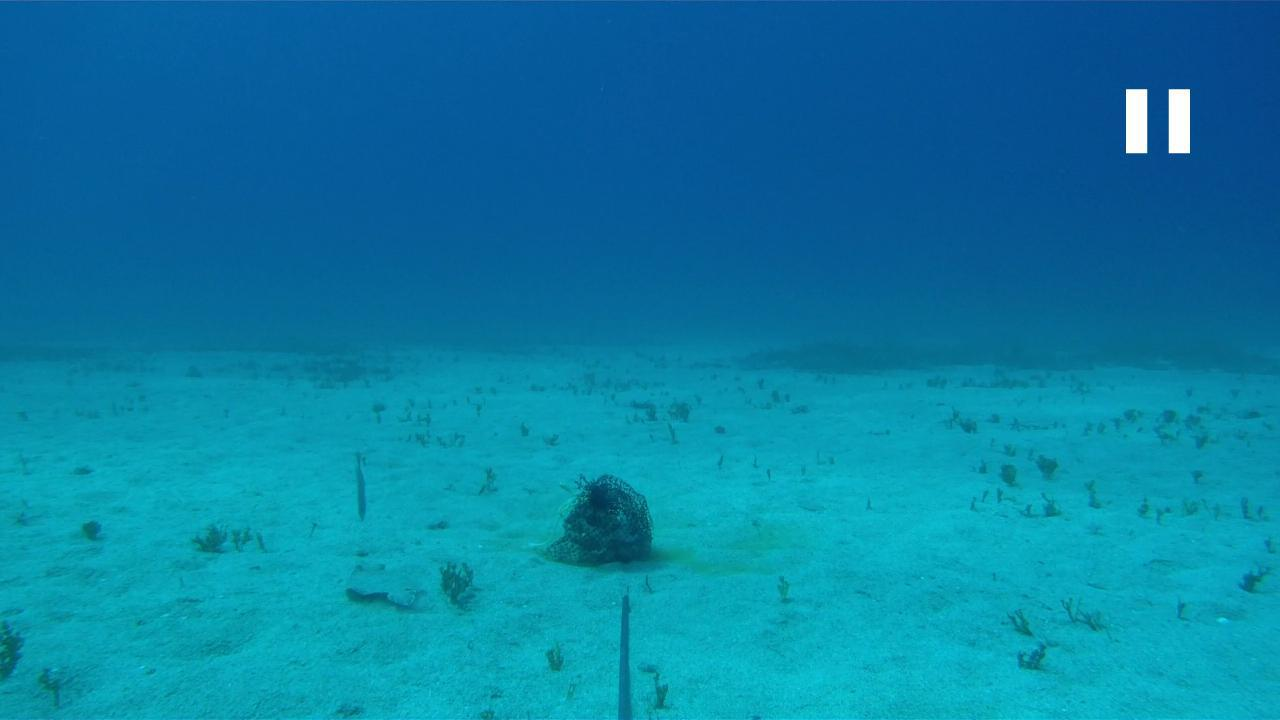bothus: (342, 559, 429, 606)
